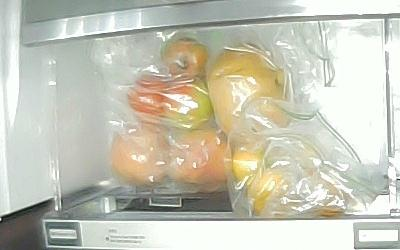peach_vinyl: (109, 123, 168, 186), (170, 130, 228, 191)
pear_vinyl: (208, 45, 288, 142)
tangerine_vinyl: (247, 170, 286, 215), (231, 142, 265, 183)
tomato_vinyl: (165, 75, 212, 130), (125, 73, 168, 126), (163, 35, 207, 81)
